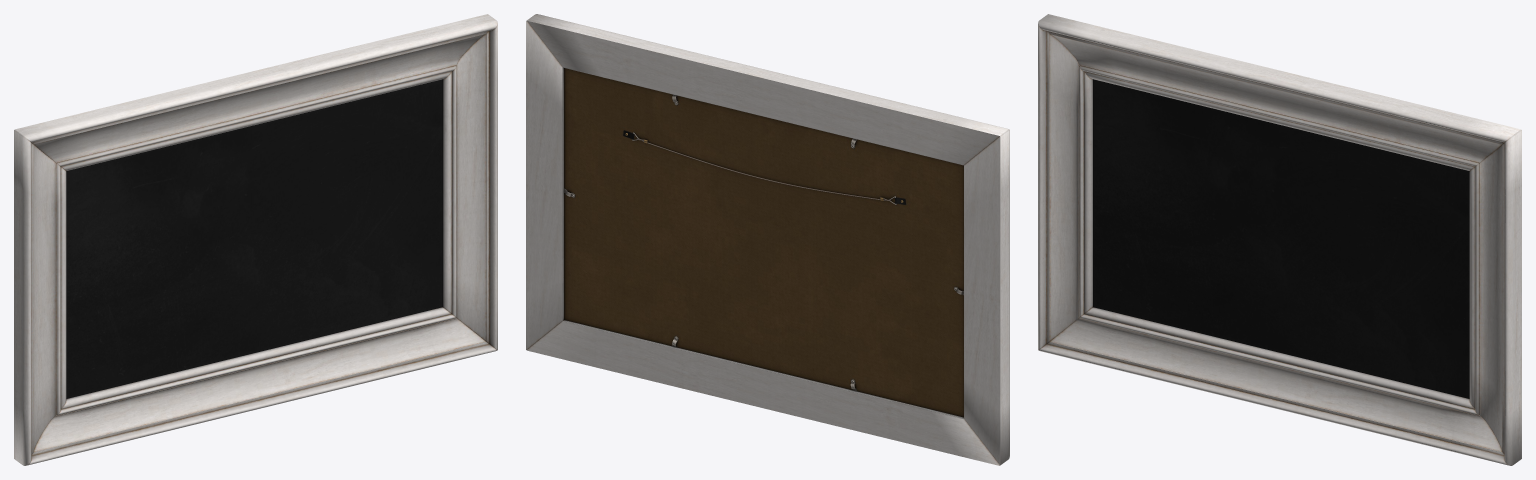
The model's file is hanging_picture_frame_02_2k.gltf.
3 renders of one model, left to right at view 1: azimuth 30°, elevation 25°; view 2: azimuth 150°, elevation 25°; view 3: azimuth 330°, elevation 25°, orthographic.
Parts seen in each view (by area): view 1: hanging_picture_frame_02; view 2: hanging_picture_frame_02; view 3: hanging_picture_frame_02.
Boxes of the visible parts, <box> form: hanging_picture_frame_02: <box>14,14,497,465</box>; hanging_picture_frame_02: <box>526,14,1009,465</box>; hanging_picture_frame_02: <box>1038,14,1521,465</box>.
Bounding box in the file's own units: 0.7518 × 0.5 × 0.0331.
